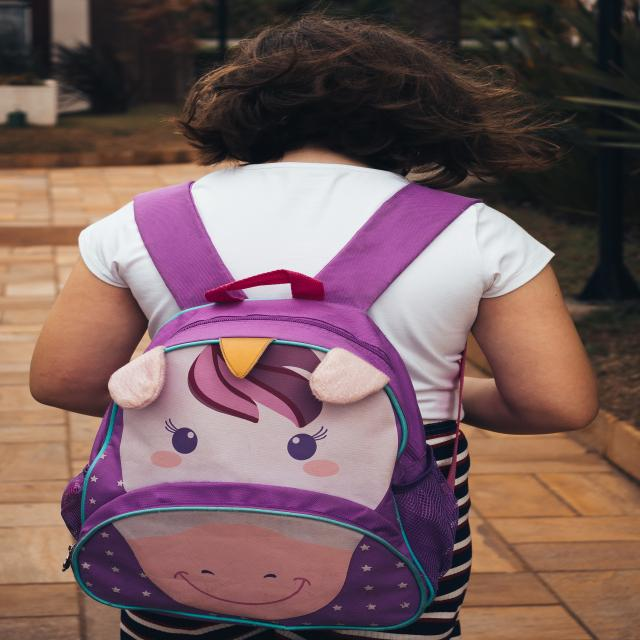backpack: (50, 175, 481, 622)
